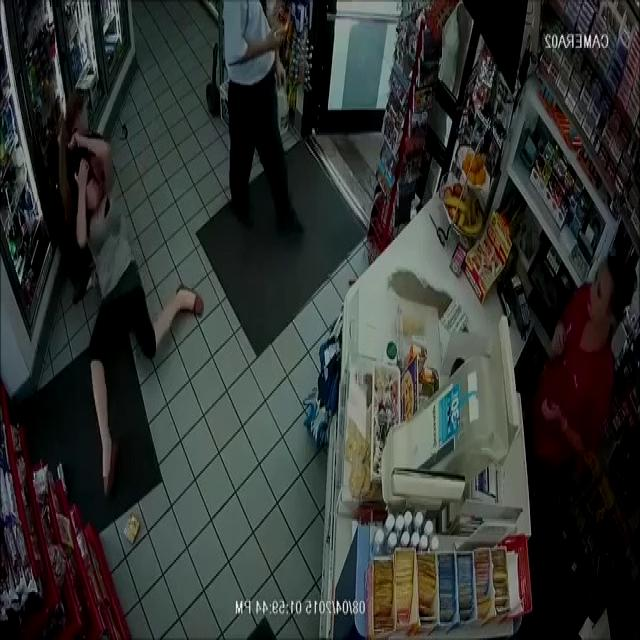fight: (55, 89, 205, 502)
